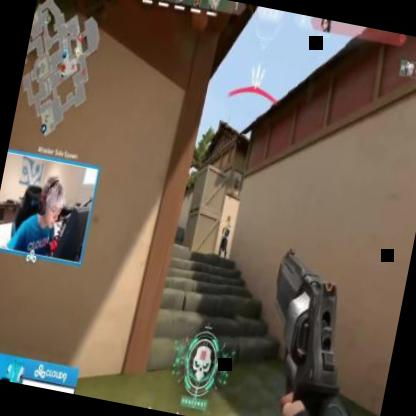enemy: (216, 214, 235, 260)
enemy_head: (225, 214, 232, 226)
